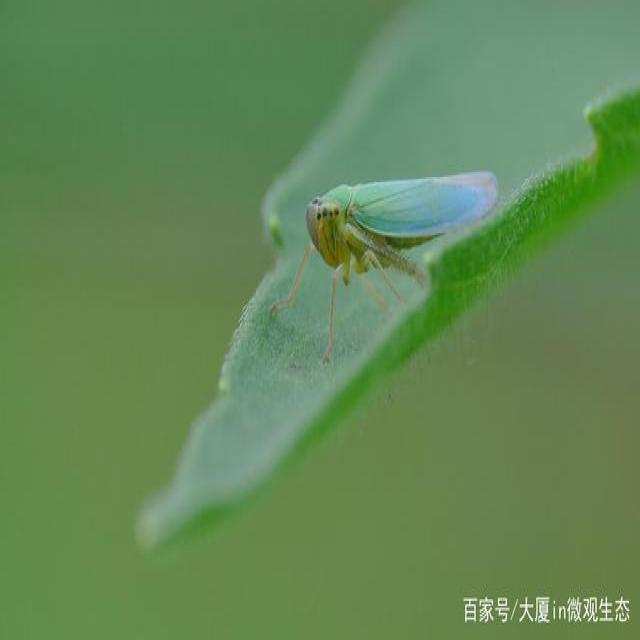Yechan: (294, 168, 496, 305)
